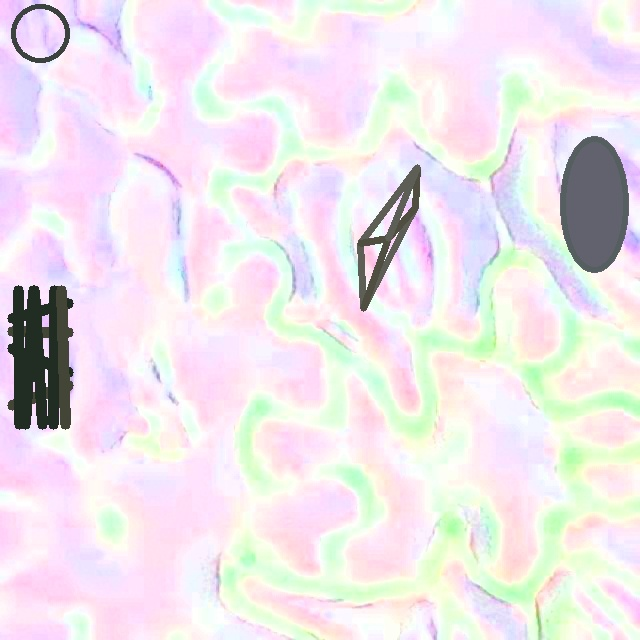open: (8, 286, 73, 429), (560, 137, 628, 272), (357, 164, 418, 311), (12, 3, 69, 63)
